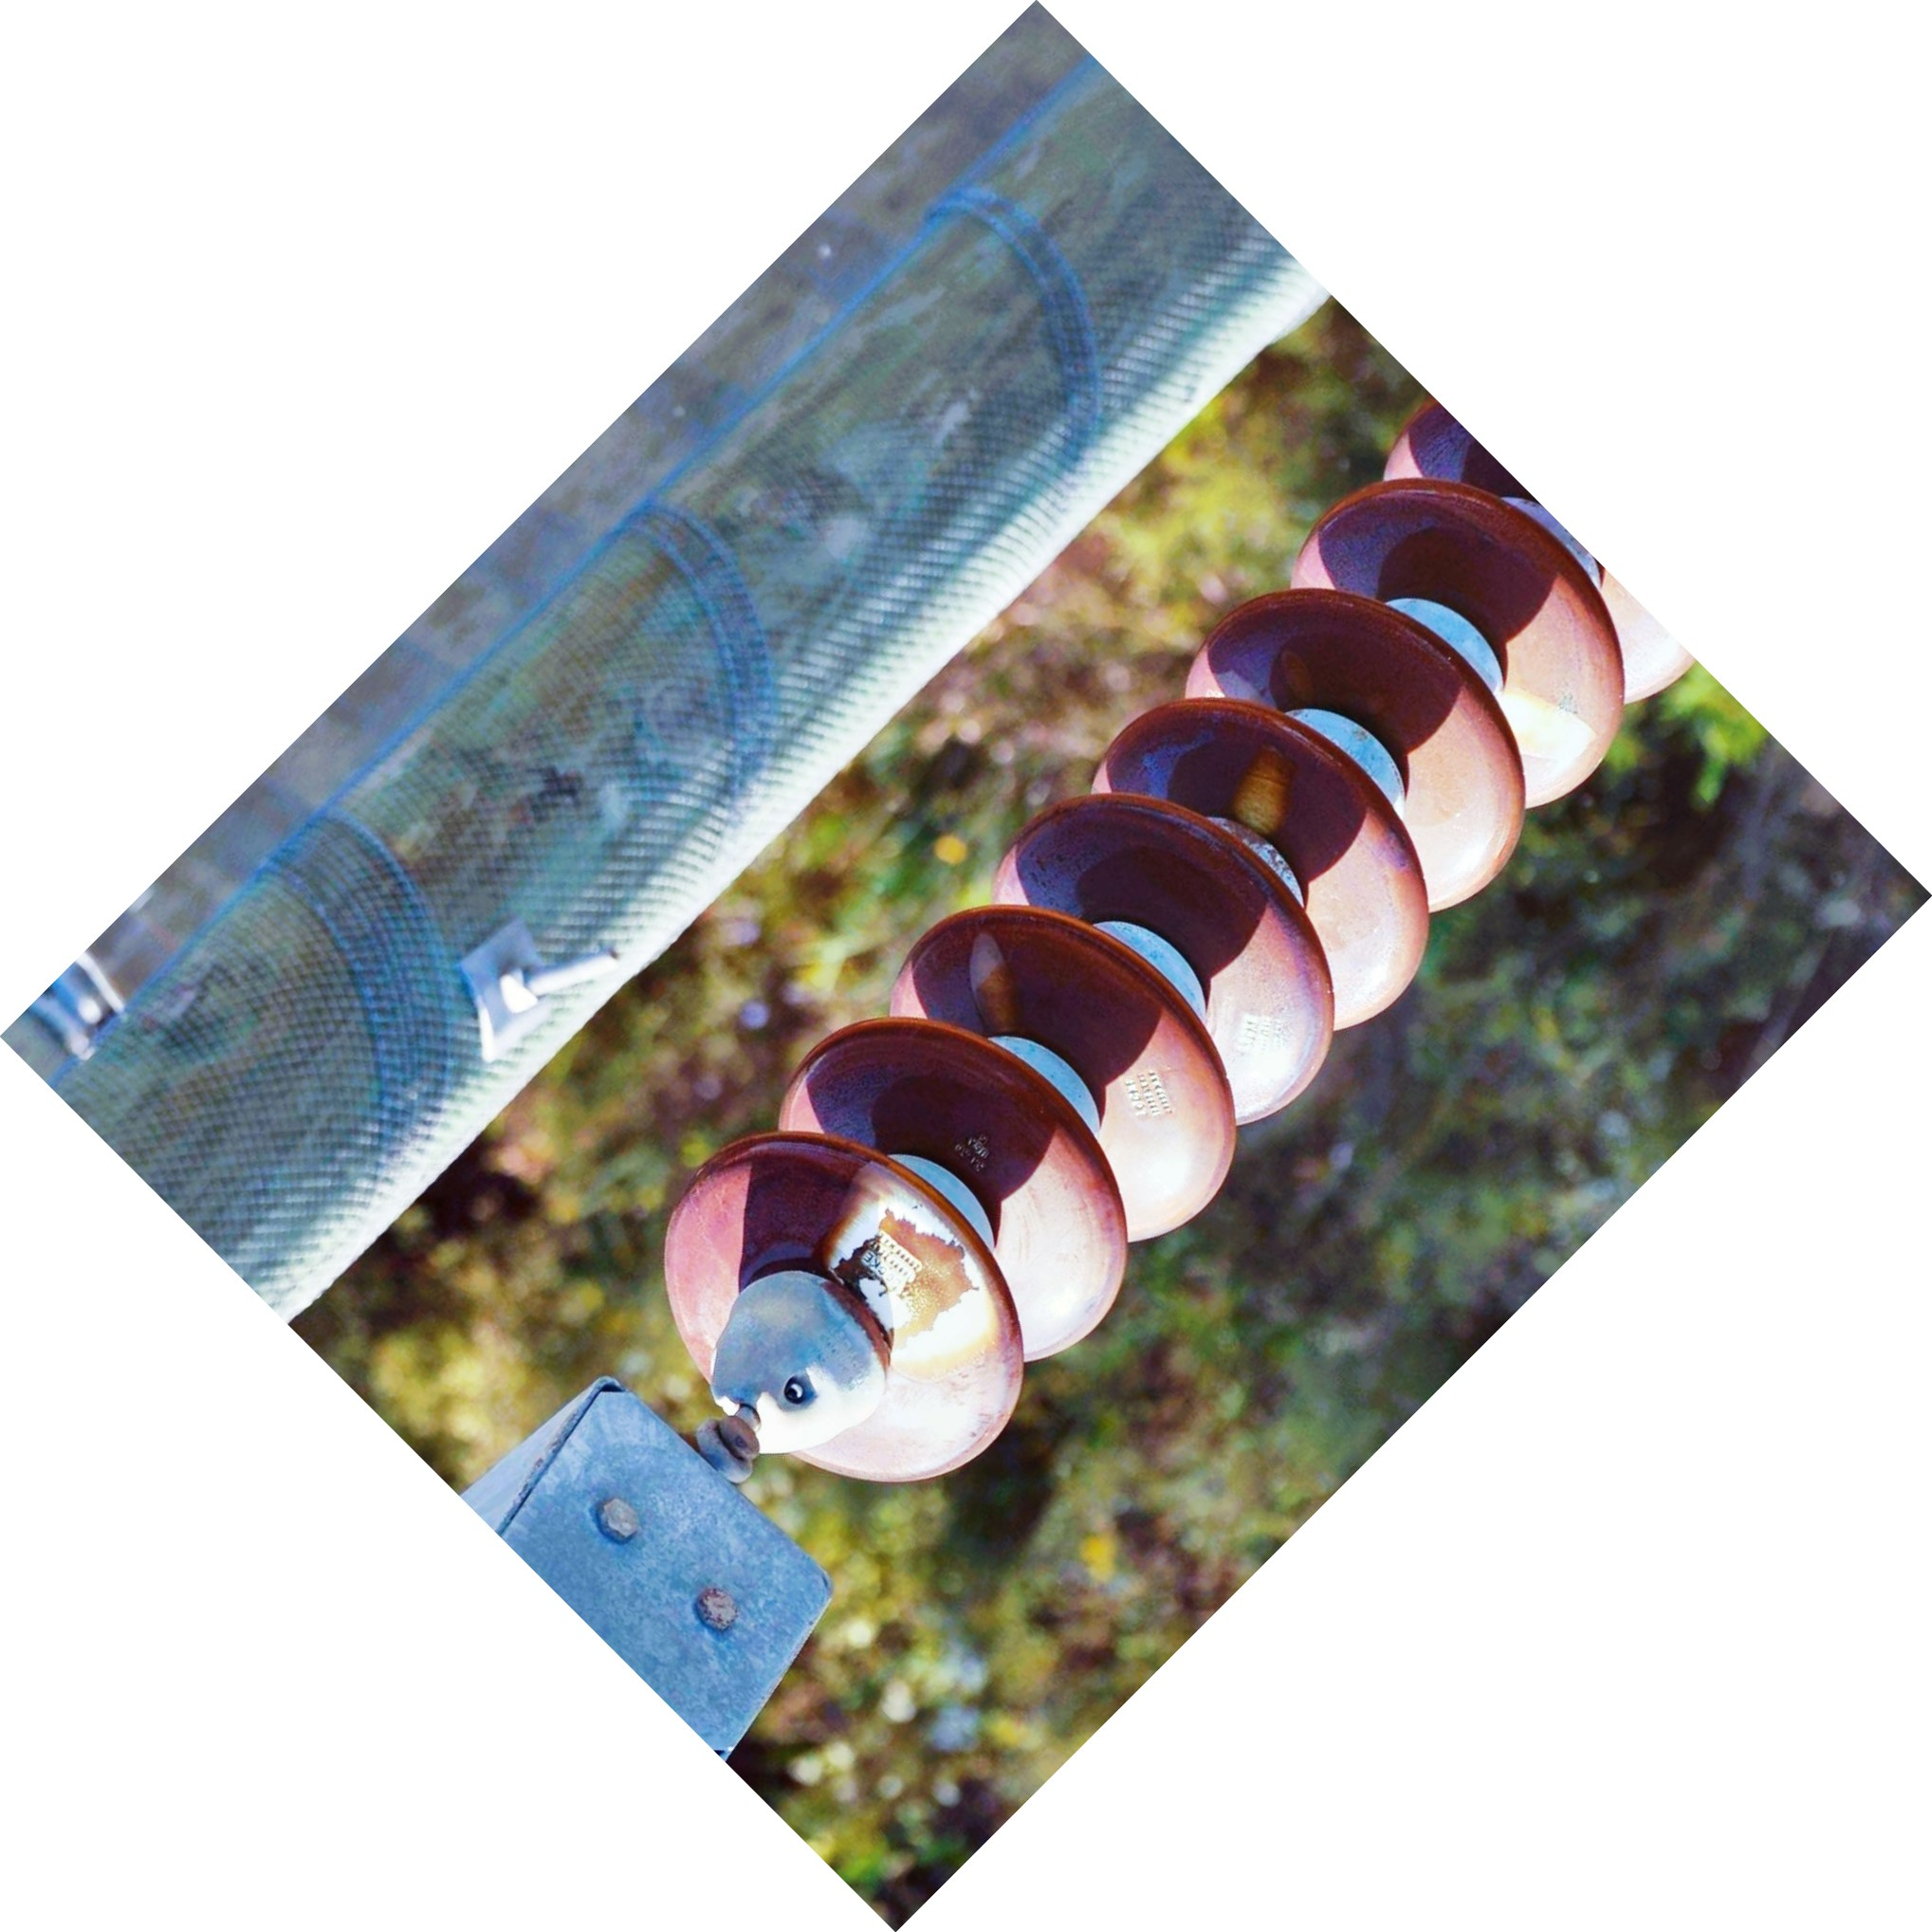Insulator flashover: (637, 1120, 1033, 1504)
